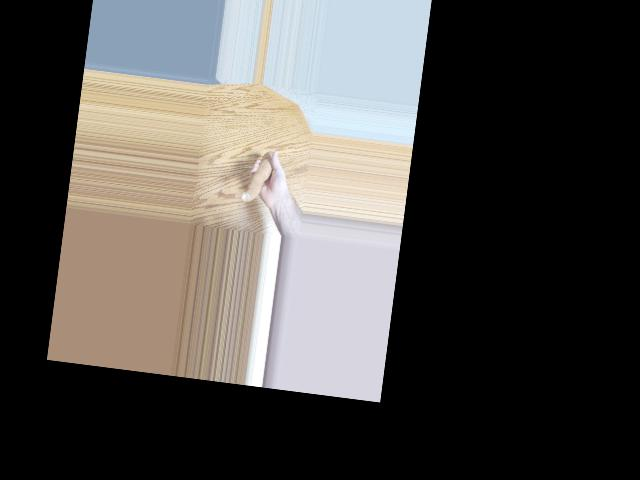sweet_potato: (241, 149, 276, 207)
